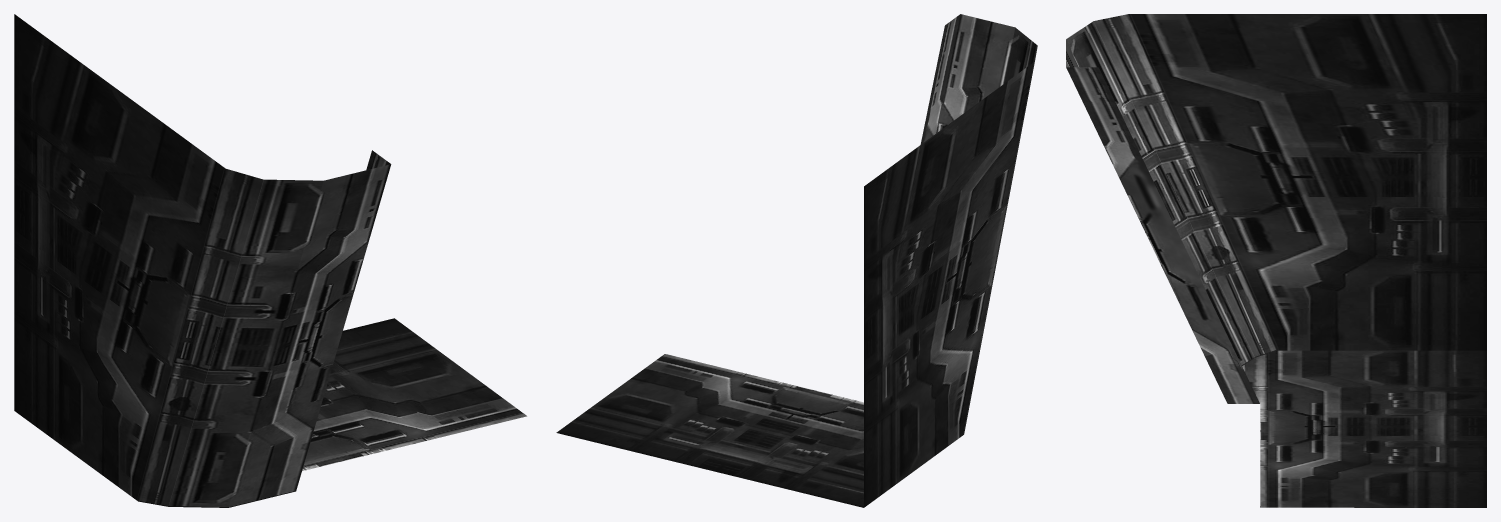
Rendered from CubeBaseFrontBackground8.fbx.
3 views of the same model, side by side, from view 1: azimuth 30°, elevation 25°; view 2: azimuth 150°, elevation 25°; view 3: azimuth 270°, elevation 25° (orthographic). The views are drawn at different scales.
Visible parts, largest first — view 1: polySurface75; view 2: polySurface75; view 3: polySurface75.
Part boxes in pixels (x1,y1,x2,y2): polySurface75: (14,14,526,507); polySurface75: (556,14,1037,507); polySurface75: (1066,14,1486,507).
Size of the model in its own units: 1 by 1 by 1.13.
1 material, 1 textured.
